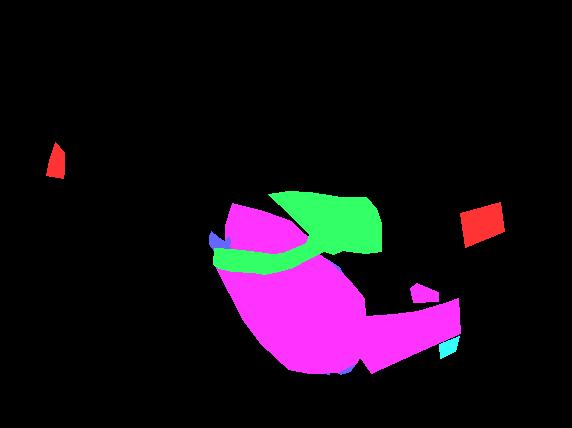Broken part: (268, 191, 381, 253), (213, 234, 343, 274)
Dent: (215, 253, 365, 373), (359, 298, 460, 373), (225, 203, 318, 268), (410, 283, 438, 302)
Flaking: (439, 336, 459, 358)
Missing part: (460, 202, 504, 247), (46, 142, 64, 178)
Scratch: (316, 254, 365, 374), (270, 278, 331, 374), (233, 276, 251, 311), (209, 231, 232, 254), (257, 325, 269, 347)
